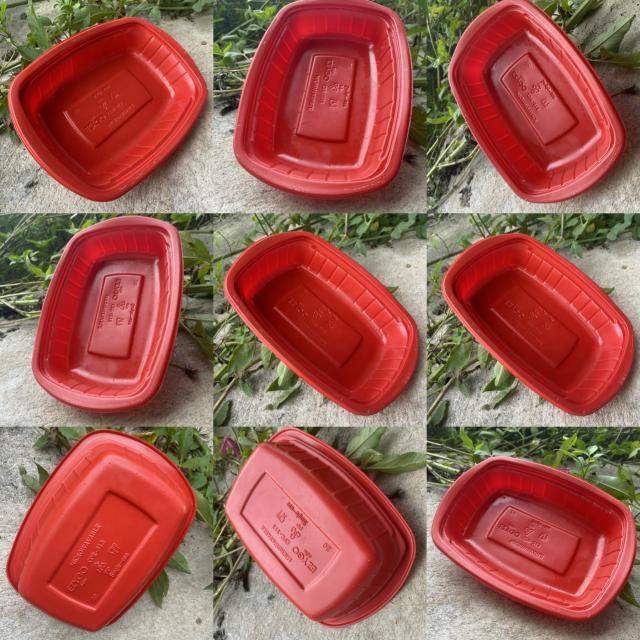Single-Use-Plastic: (6, 430, 196, 631), (225, 428, 415, 627), (9, 18, 208, 201), (224, 231, 419, 415), (449, 0, 626, 202), (234, 0, 412, 199), (442, 234, 634, 414), (431, 456, 636, 620), (32, 216, 184, 412)
